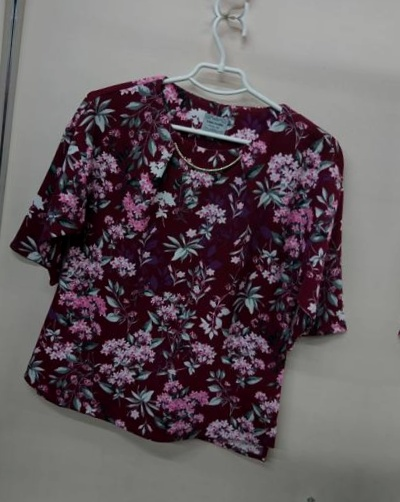Blouse: (0, 41, 375, 481), (381, 79, 400, 502), (0, 492, 332, 502)
